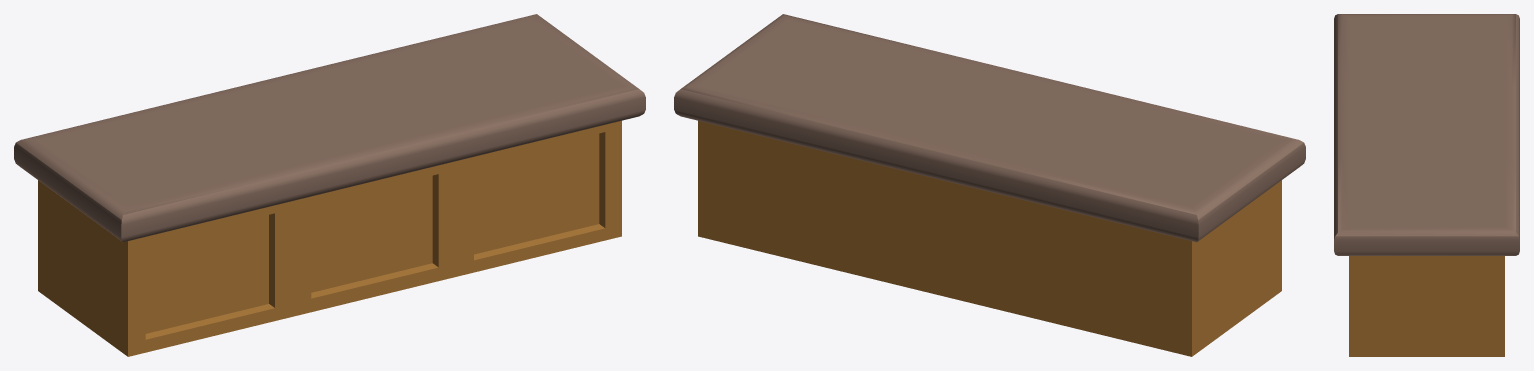
The model's file is counter 2.fbx.
The picture shows the model from 3 angles, left to right: view 1: azimuth 30°, elevation 25°; view 2: azimuth 150°, elevation 25°; view 3: azimuth 270°, elevation 25°; orthographic projection. The views are drawn at different scales.
Parts seen in each view (by area): view 1: counter; view 2: counter; view 3: counter.
Part boxes in pixels (x1,y1,x2,y2): counter: [14, 14, 645, 356]; counter: [674, 14, 1305, 356]; counter: [1334, 14, 1519, 356].
Size of the model in its own units: 308 by 84.34 by 109.
2 materials, 2 textured.
